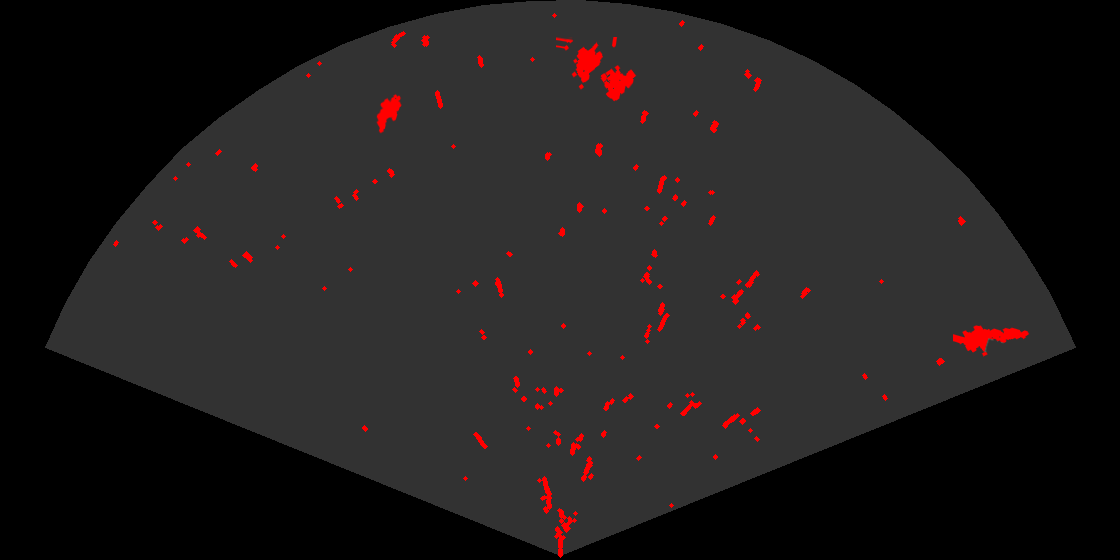AUV: (375, 92, 403, 135)
cage: (556, 37, 638, 103)
frogman: (953, 324, 1031, 358)
